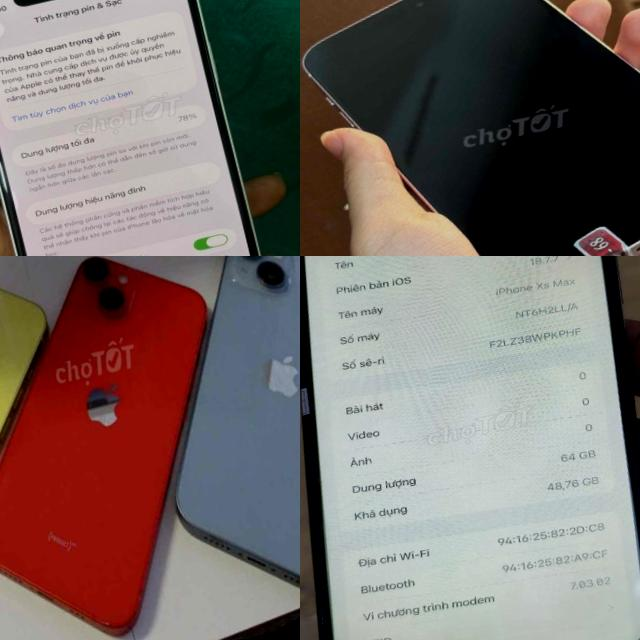gen_12_13: (0, 0, 281, 256)
gen_14: (123, 256, 300, 621)
gen_15: (300, 0, 640, 256)
gen_x_xs: (300, 256, 640, 640)
